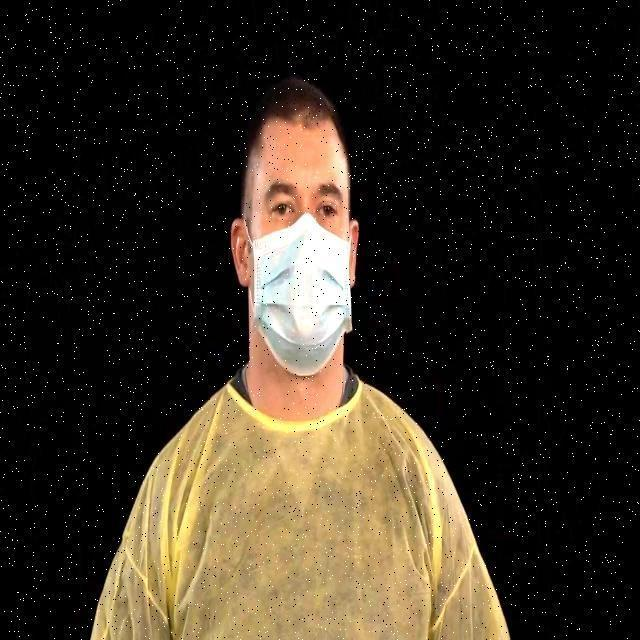mask: (255, 243, 358, 353)
no_gloves: (260, 70, 334, 146)
